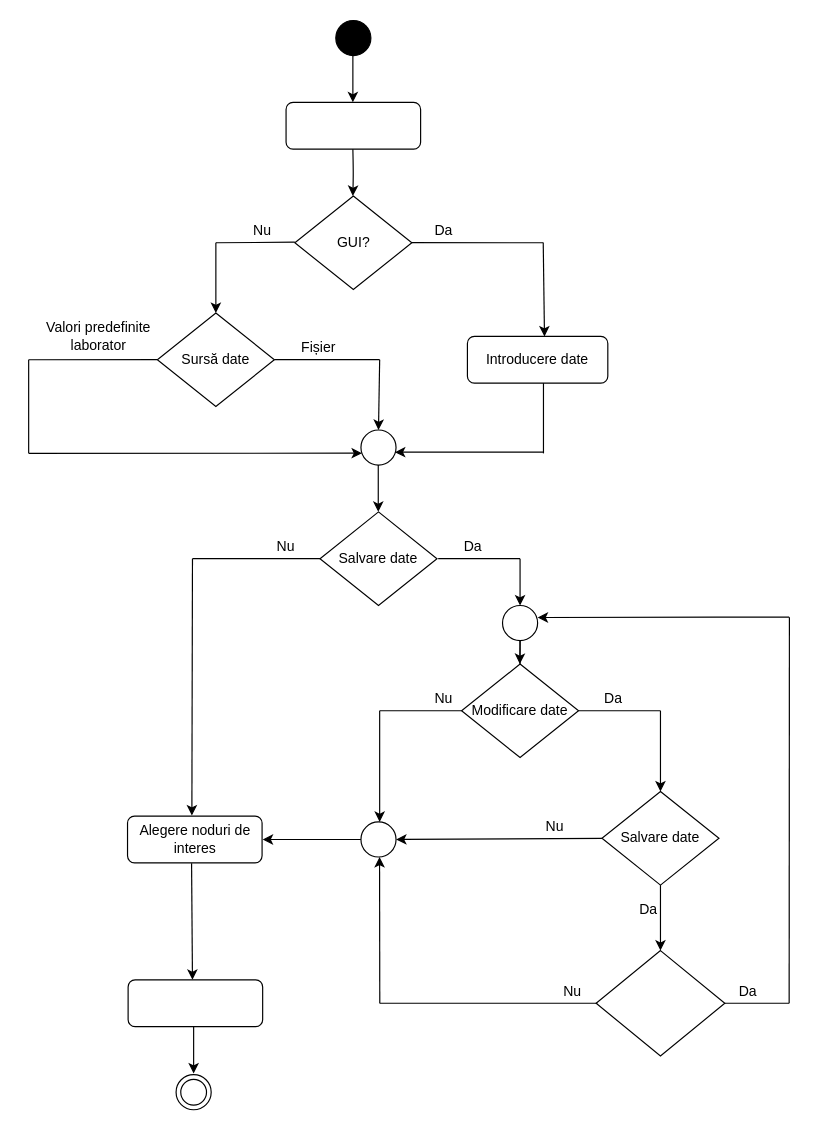
Some shapes in this 819 by 1130 pixel diagram are drawn without their labels. Here are the shapes that lost their labels. From the top down, the centre of each, then its label:
the point at 353,125: Încarcă date
the point at 195,1003: Calculare date
the point at 660,1002: Revenire stare anterioară
